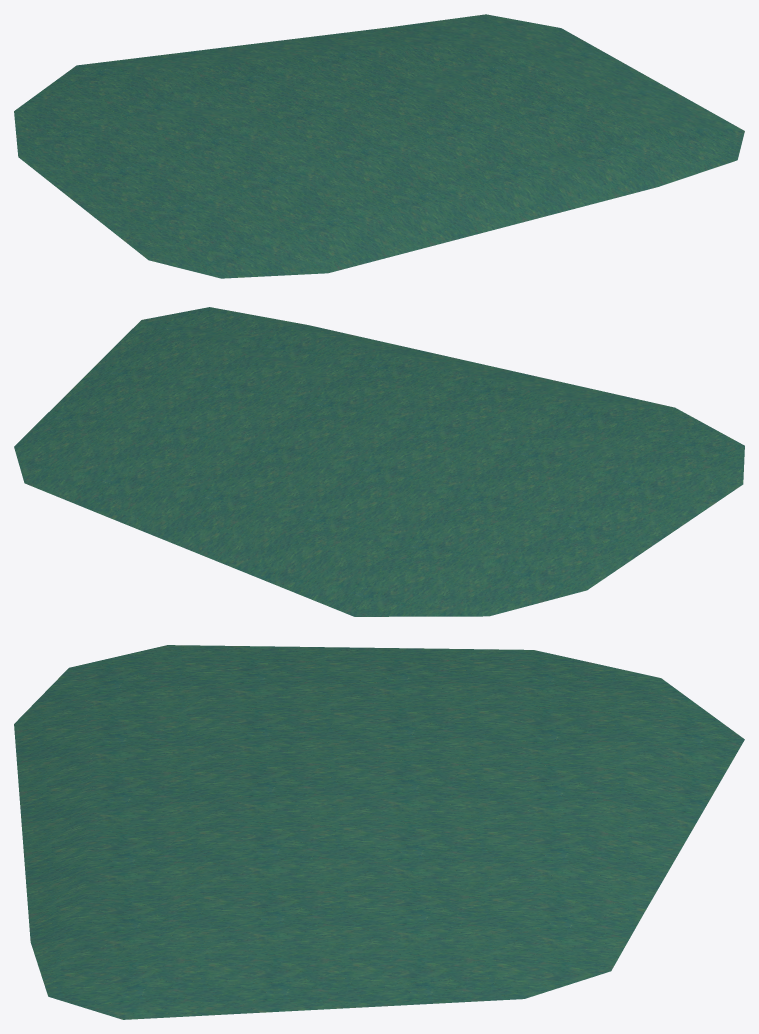
Rendered from Grassmound01.glb.
The picture shows the model from 3 angles, top to bottom: view 1: azimuth 30°, elevation 25°; view 2: azimuth 150°, elevation 25°; view 3: azimuth 270°, elevation 25°; orthographic projection. The views are drawn at different scales.
Parts seen in each view (by area): view 1: Cube; view 2: Cube; view 3: Cube.
Part boxes in pixels (bbox=[...]): Cube: bbox=[14, 14, 744, 278]; Cube: bbox=[14, 307, 744, 616]; Cube: bbox=[14, 645, 744, 1019].
Size of the model in its own units: 54.13 by 1.86 by 44.59.
1 material, 1 textured.
